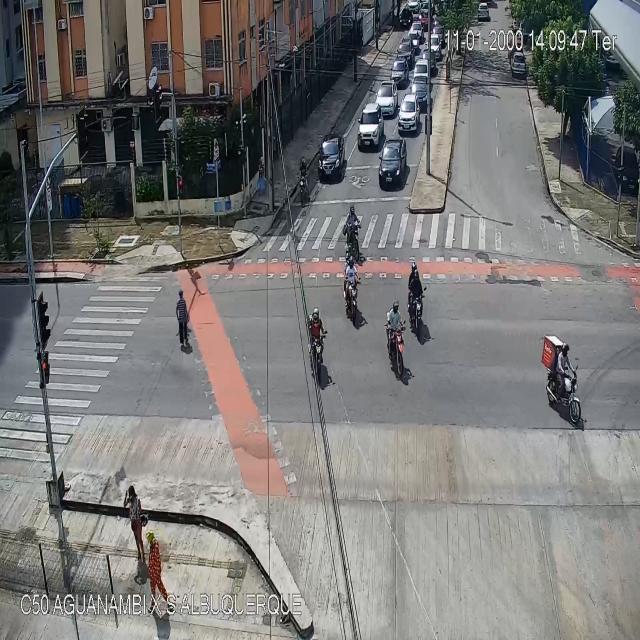Car: (378, 139, 408, 187), (318, 134, 344, 182), (358, 103, 383, 148), (398, 94, 419, 139), (378, 79, 401, 115), (412, 78, 430, 110), (391, 60, 408, 89), (413, 59, 430, 82), (428, 34, 442, 60), (512, 49, 524, 75), (422, 49, 435, 70), (411, 20, 423, 39), (432, 24, 444, 42), (398, 42, 412, 57), (400, 9, 413, 25), (477, 2, 488, 18), (408, 31, 419, 47), (420, 9, 429, 28)
Motorcycle: (546, 344, 580, 428), (306, 305, 326, 390), (386, 300, 407, 379), (408, 261, 425, 343), (343, 256, 361, 324), (346, 204, 362, 262), (299, 160, 310, 208)
